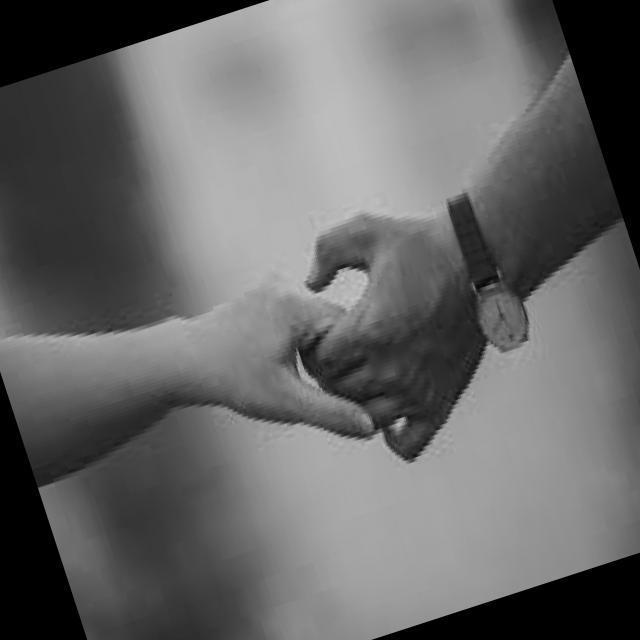Watch: (439, 180, 539, 365)
